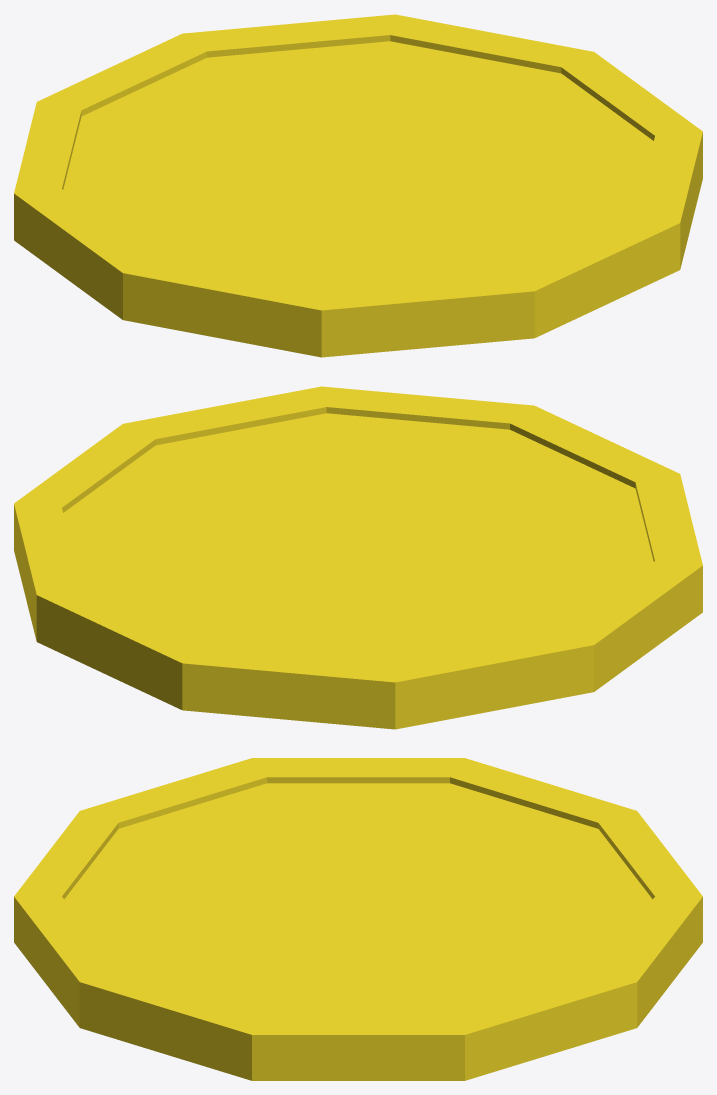
The model's file is GoldCoin.fbx.
3 renders of one model, top to bottom at view 1: azimuth 30°, elevation 25°; view 2: azimuth 150°, elevation 25°; view 3: azimuth 270°, elevation 25°, orthographic. The views are drawn at different scales.
Parts seen in each view (by area): view 1: Цилиндр; view 2: Цилиндр; view 3: Цилиндр.
Boxes of the visible parts, box(x1,y1,x2,y2) form: Цилиндр: box(14, 14, 702, 357); Цилиндр: box(14, 386, 702, 729); Цилиндр: box(14, 758, 702, 1080).
Size of the model in its own units: 190 by 14.73 by 200.
